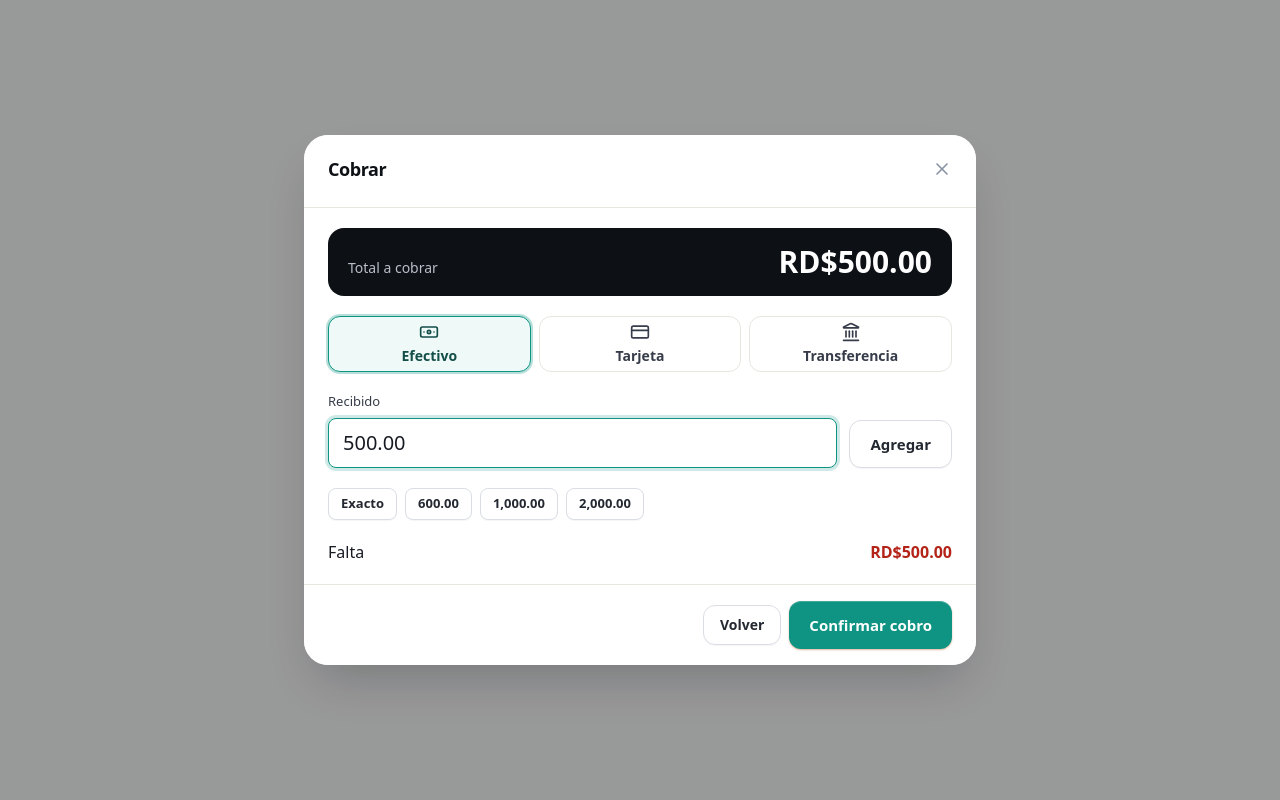
Test case: PayModal (cobro) › no deja pasar del total con tarjeta: el cambio solo es en efectivo
Click the radio button labelled "Tarjeta" at (640, 344), box left=539, top=316, right=741, bottom=372
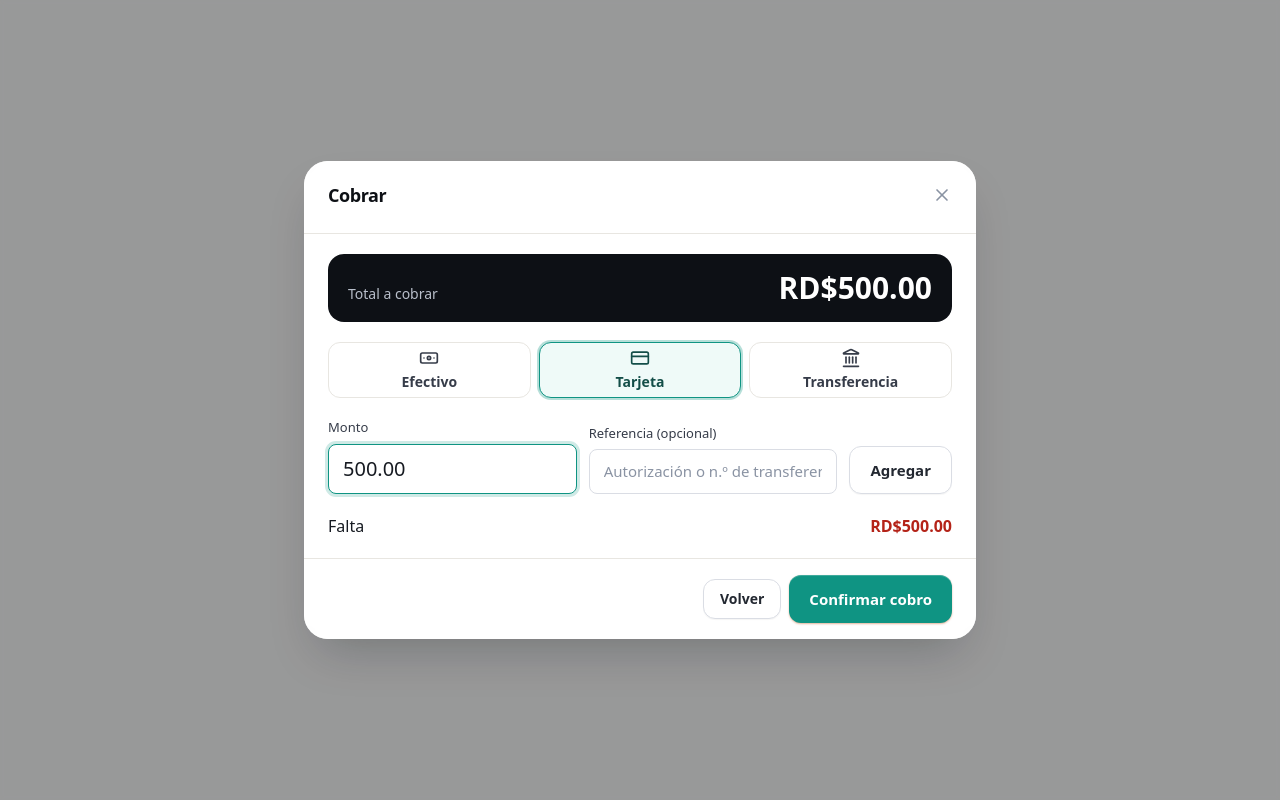
Replace the text in the field labelled "Monto" with "600" at (452, 469), box left=328, top=444, right=577, bottom=494
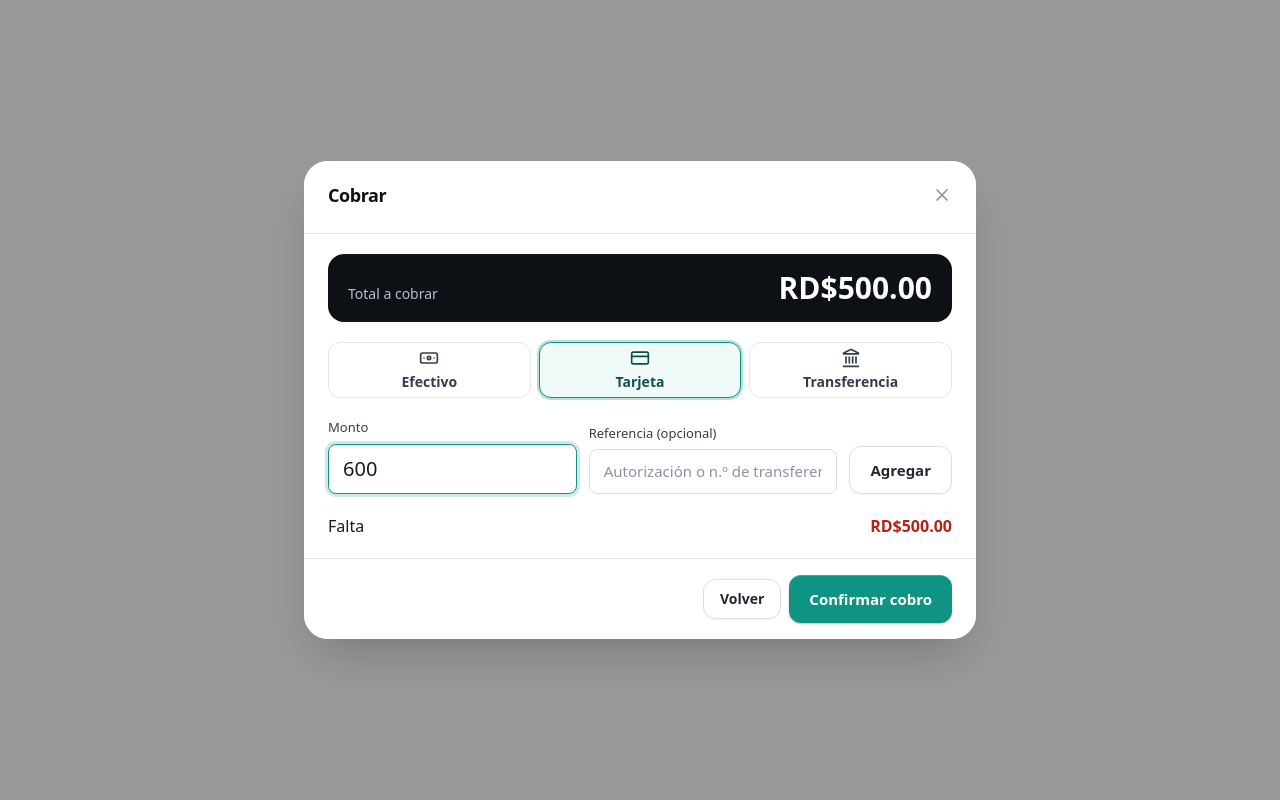
Submit the form, box left=328, top=418, right=952, bottom=494
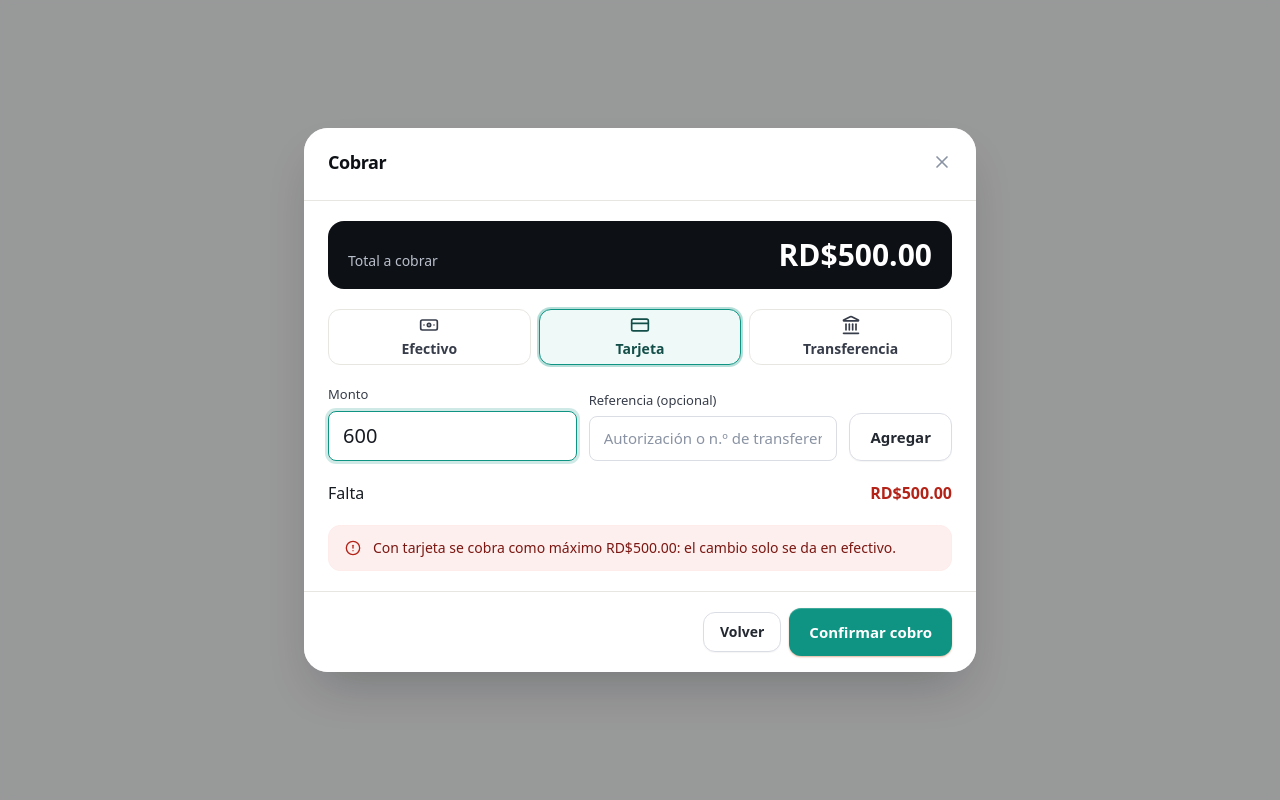
Check: the text "el cambio solo se da en efectivo" is shown, box left=373, top=538, right=896, bottom=557
